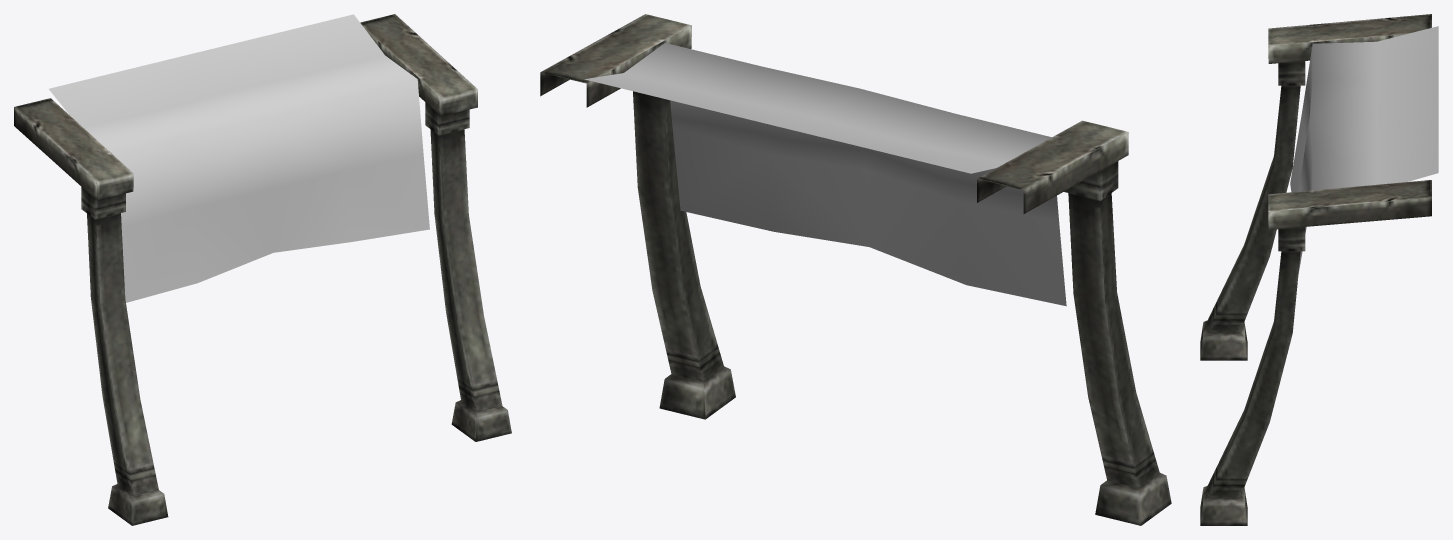
The picture shows the model from 3 angles, left to right: view 1: azimuth 30°, elevation 25°; view 2: azimuth 150°, elevation 25°; view 3: azimuth 270°, elevation 25°; orthographic projection. The views are drawn at different scales.
Visible parts, largest first — view 1: object112; view 2: object112; view 3: object112.
Part boxes in pixels (x1,y1,x2,y2): object112: (14, 14, 511, 525); object112: (540, 14, 1171, 525); object112: (1200, 14, 1438, 525).
Size of the model in its own units: 346 by 294 by 190.
